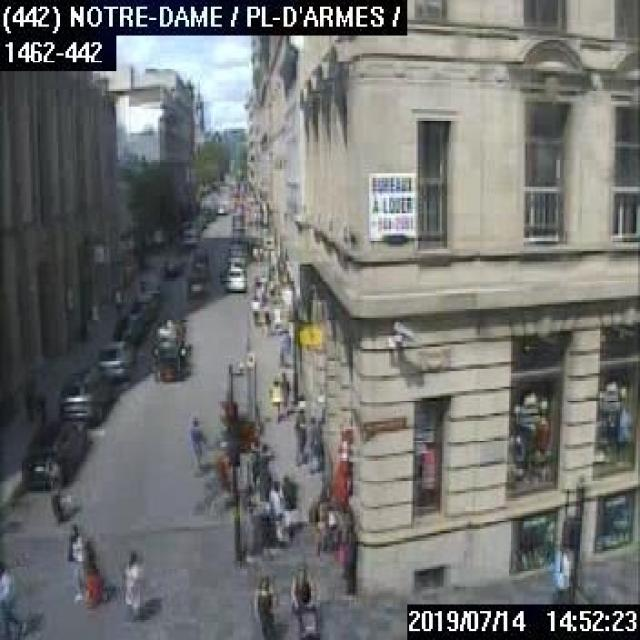pedestrian: (286, 562, 318, 638), (0, 560, 24, 638), (65, 517, 85, 604), (252, 573, 274, 638), (124, 549, 144, 618), (82, 538, 102, 602), (280, 469, 300, 533), (268, 479, 287, 543), (267, 369, 284, 422), (292, 400, 306, 461), (306, 414, 319, 472), (187, 416, 202, 464), (31, 387, 44, 433), (274, 320, 286, 362), (249, 289, 261, 329)
vehicle: (21, 416, 86, 487), (57, 362, 111, 426), (150, 310, 188, 380), (91, 337, 138, 382), (184, 269, 206, 302), (222, 265, 247, 291), (213, 191, 231, 213)
